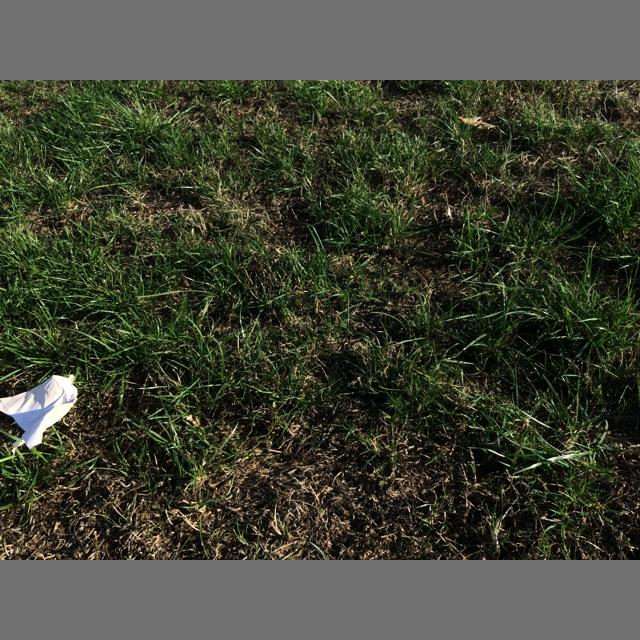litter: (0, 375, 77, 449)
